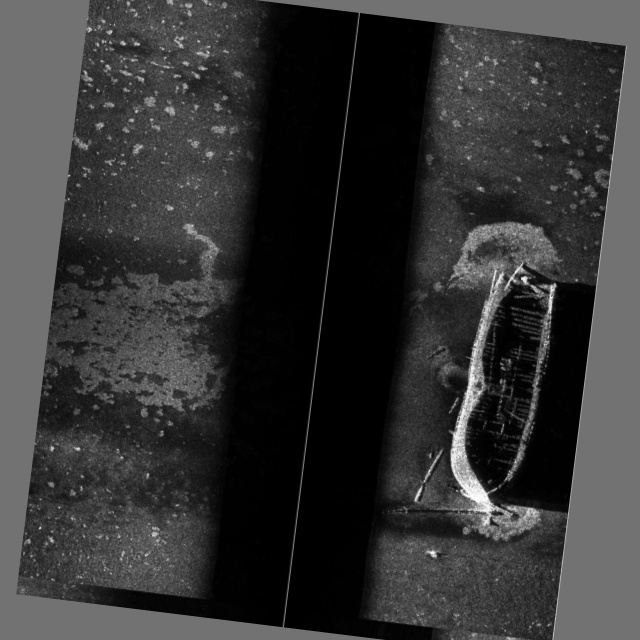Shipwreck: (380, 248, 561, 533)
